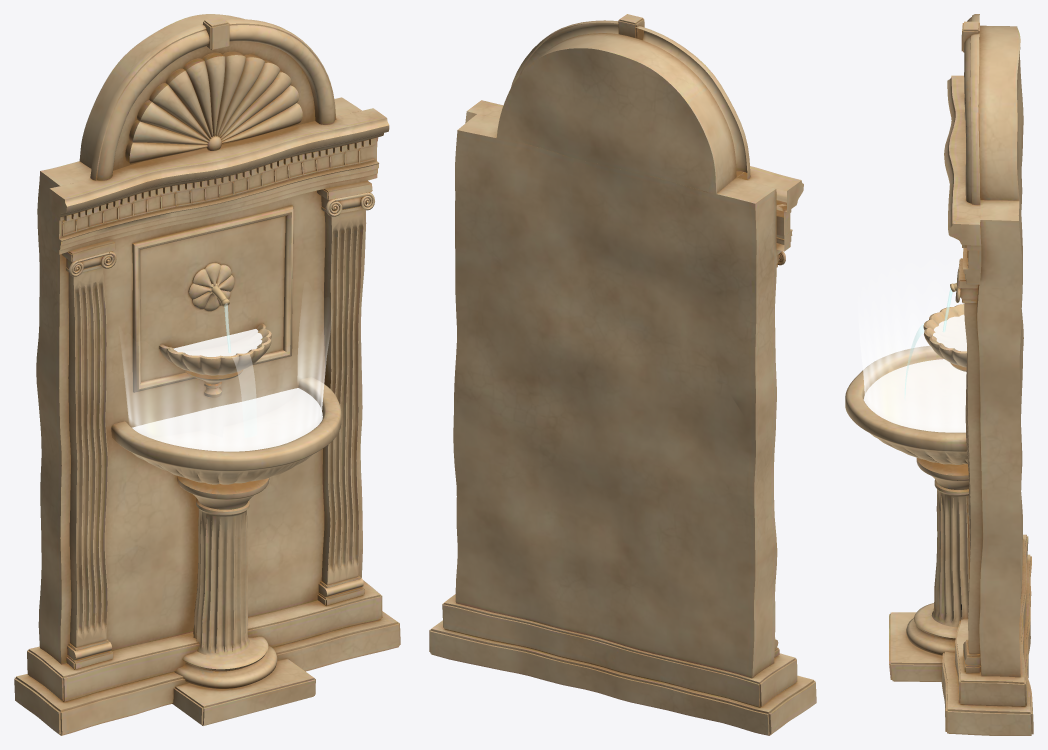
The model's file is Basin.glb.
3 renders of one model, left to right at view 1: azimuth 30°, elevation 25°; view 2: azimuth 150°, elevation 25°; view 3: azimuth 270°, elevation 25°, orthographic. The views are drawn at different scales.
Visible parts, largest first — view 1: Basin_Stone, Basin_Halo, Basin_Water, Basin_WaterUpper, Basin_WaterFall; view 2: Basin_Stone; view 3: Basin_Stone, Basin_Halo, Basin_Water, Basin_WaterUpper, Basin_WaterFall.
Boxes of the visible parts, x1,y1,x2,y2 form: Basin_Stone: (14,14,400,735); Basin_Halo: (122,310,330,451); Basin_Water: (132,388,322,451); Basin_WaterUpper: (173,329,262,356); Basin_WaterFall: (224,303,256,436); Basin_Stone: (429,14,816,735); Basin_Stone: (845,14,1033,735); Basin_Halo: (859,280,965,432); Basin_Water: (863,359,966,432); Basin_WaterUpper: (933,314,966,351); Basin_WaterFall: (904,288,952,397).
Size of the model in its own units: 1.14 by 2.1 by 0.5665.
Materials: 5 (2 with a texture image).
